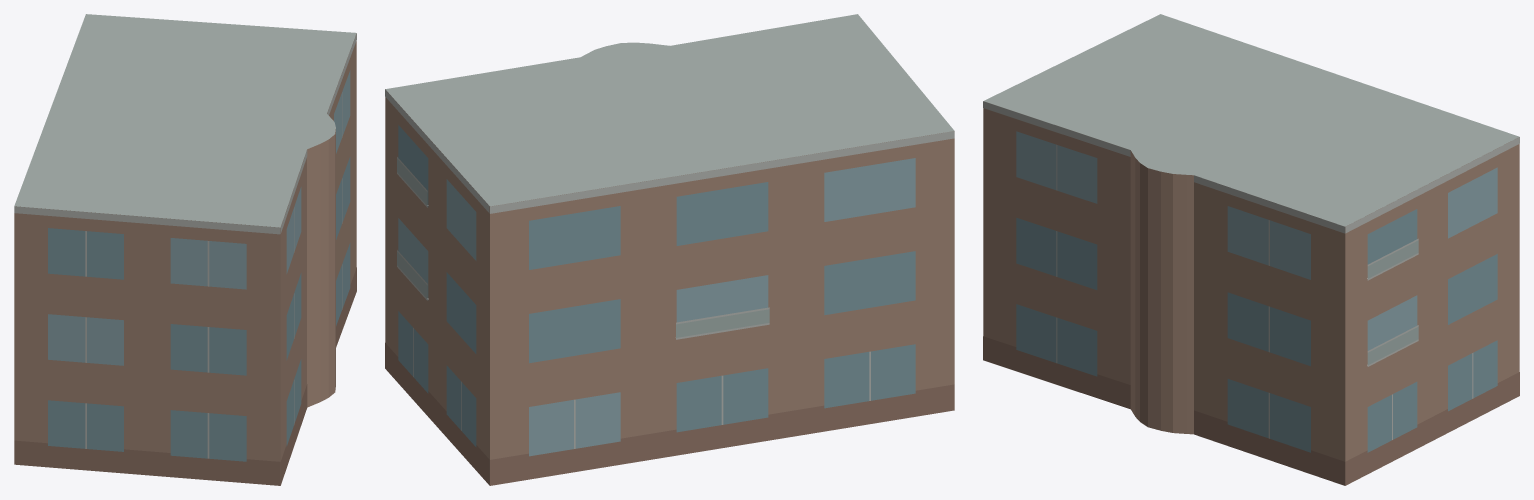
Rendered from survey-upis-32893475.glb.
The picture shows the model from 3 angles, left to right: view 1: azimuth 30°, elevation 25°; view 2: azimuth 150°, elevation 25°; view 3: azimuth 270°, elevation 25°; orthographic projection. The views are drawn at different scales.
Visible parts, largest first — view 1: survey-upis-32893475.tmp; view 2: survey-upis-32893475.tmp; view 3: survey-upis-32893475.tmp.
Boxes of the visible parts, left/top/right/bottom form: survey-upis-32893475.tmp: left=14, top=14, right=356, bottom=485; survey-upis-32893475.tmp: left=385, top=14, right=954, bottom=485; survey-upis-32893475.tmp: left=983, top=14, right=1519, bottom=485.
Size of the model in its own units: 16.12 by 9.15 by 17.18.
